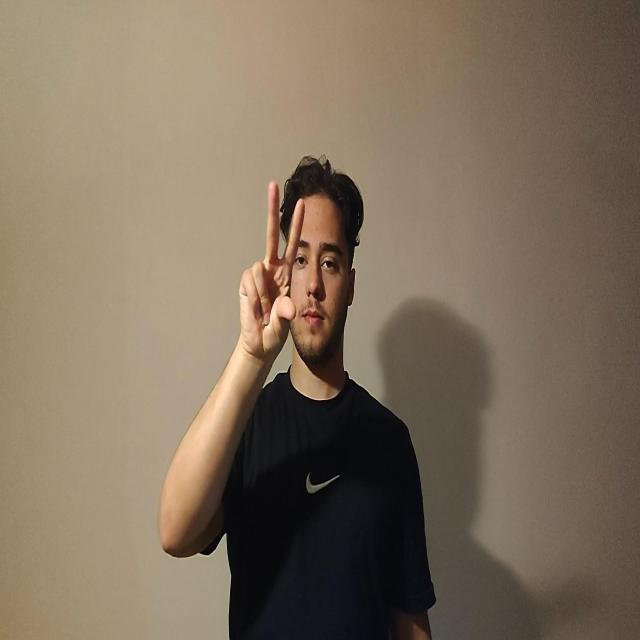no: (238, 180, 305, 362)
